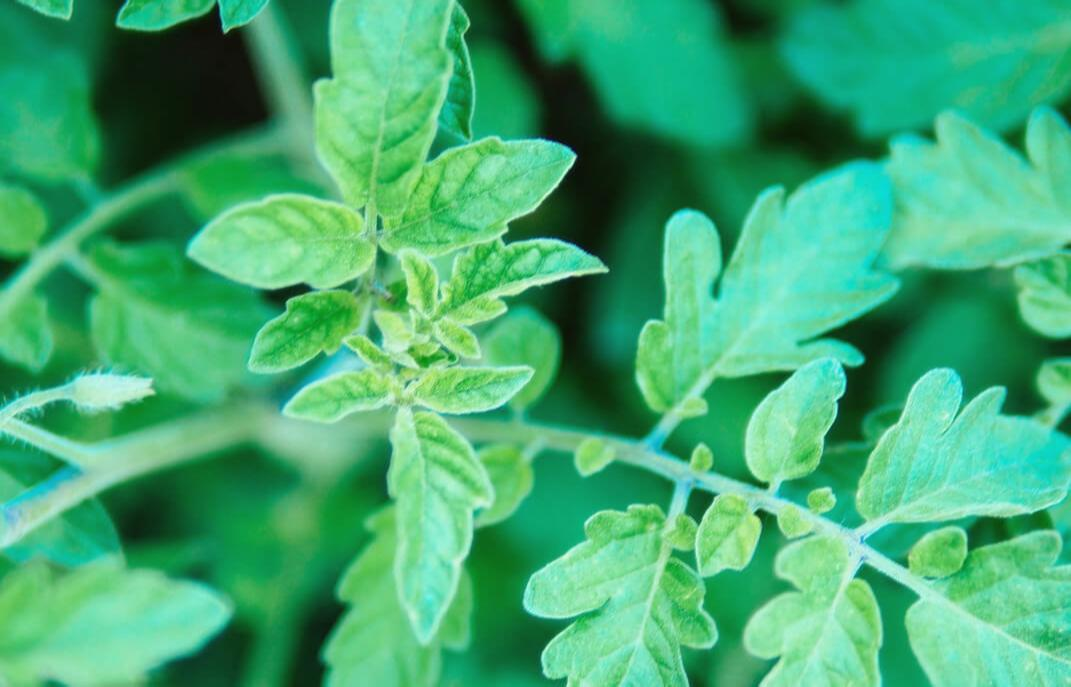Tomato leaf: (630, 152, 892, 442), (511, 484, 717, 687), (851, 365, 1071, 542), (366, 124, 596, 258), (315, 0, 445, 233), (379, 393, 491, 646), (900, 525, 1071, 687), (734, 514, 872, 687), (185, 195, 374, 295)
